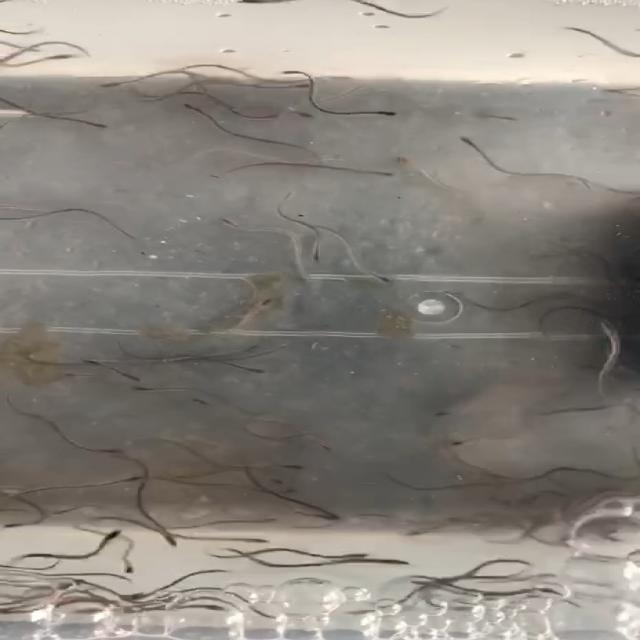active_glass_eel: (92, 76, 142, 92), (449, 434, 497, 448), (219, 218, 260, 234), (114, 369, 150, 386), (448, 135, 481, 153), (188, 600, 230, 614), (376, 556, 417, 570), (153, 529, 180, 550), (365, 106, 405, 120), (244, 534, 280, 549), (315, 550, 368, 560), (37, 50, 84, 61), (79, 117, 111, 133), (180, 102, 211, 118), (365, 270, 399, 284), (279, 80, 326, 90), (292, 106, 321, 122), (188, 394, 221, 408), (275, 460, 306, 474), (364, 166, 399, 178), (232, 364, 273, 374), (119, 556, 139, 576), (100, 528, 123, 545), (316, 440, 340, 456), (94, 446, 132, 456), (228, 0, 281, 7), (257, 297, 277, 314), (130, 384, 164, 394), (0, 520, 26, 533), (430, 408, 458, 420), (311, 248, 330, 265), (118, 473, 144, 485)
